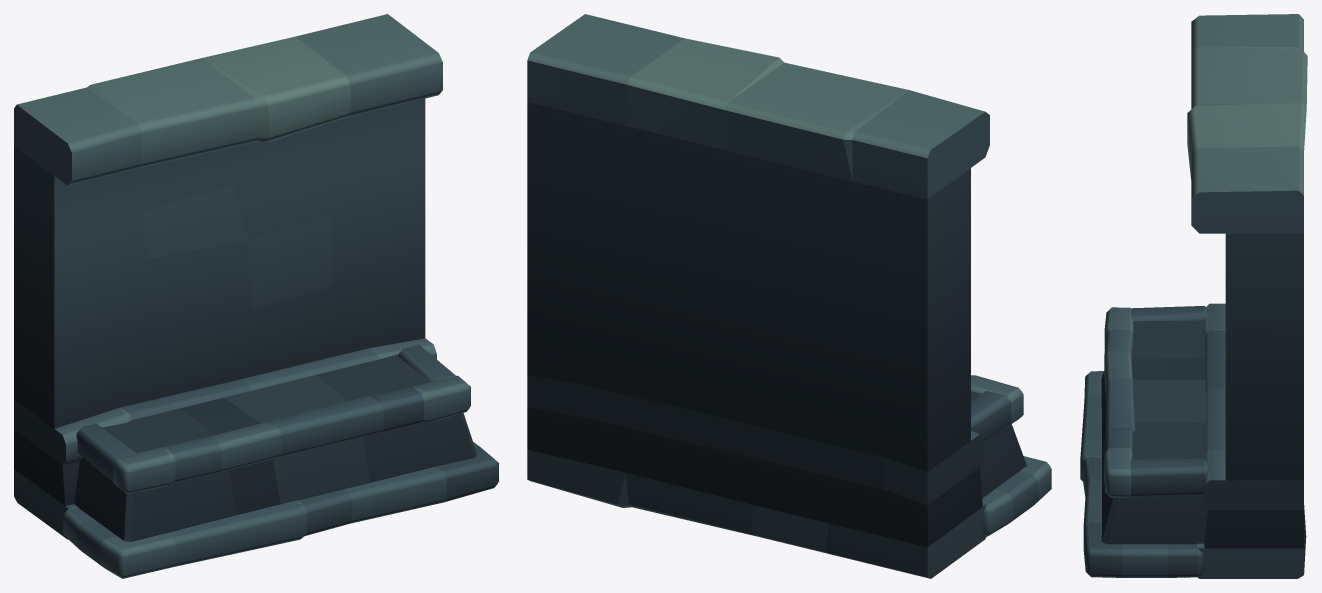
File: wall_element_tileable_deco_4meters.fbx
3 renders of one model, left to right at view 1: azimuth 30°, elevation 25°; view 2: azimuth 150°, elevation 25°; view 3: azimuth 270°, elevation 25°, orthographic. The views are drawn at different scales.
Visible parts, largest first — view 1: wall_element_tileable_deco_4meters; view 2: wall_element_tileable_deco_4meters; view 3: wall_element_tileable_deco_4meters.
Boxes of the visible parts, x1,y1,x2,y2 form: wall_element_tileable_deco_4meters: (14, 14, 498, 578); wall_element_tileable_deco_4meters: (527, 14, 1051, 578); wall_element_tileable_deco_4meters: (1080, 14, 1307, 578).
Bounding box in the file's own units: 416 × 414 × 217.
